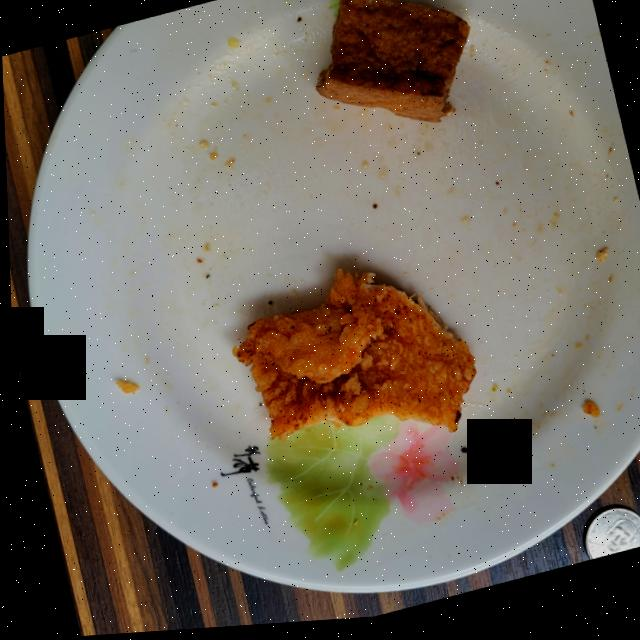coin: (580, 516, 640, 568)
egg tofu: (315, 0, 469, 129)
fried chicken cutlet: (230, 276, 472, 443)
